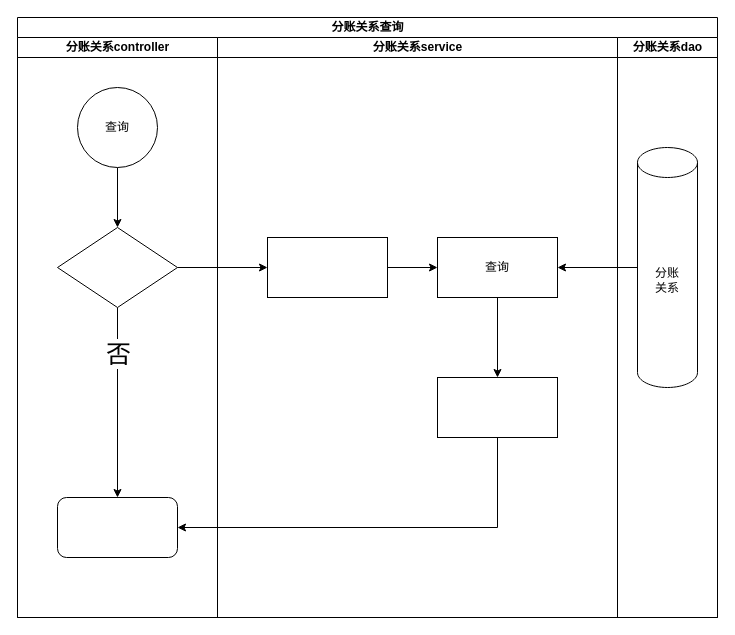
The diagram is 735 pixels wide and 635 high, and some of its shapes have lost their labels. Each missing label, with the centre of its shape:
"构建查询参数" goes at point 327,267.
"校验参数" goes at point 117,267.
"结束" goes at point 117,527.
"结果封装" goes at point 497,407.
